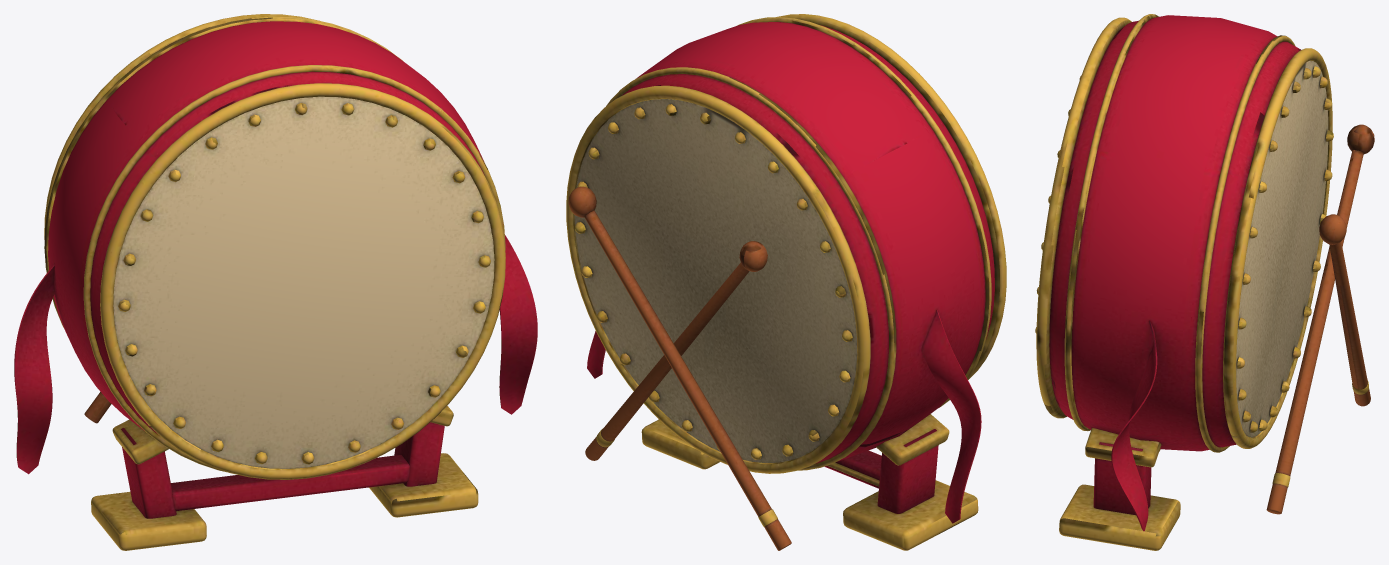
3 views of the same model, side by side, from view 1: azimuth 30°, elevation 25°; view 2: azimuth 150°, elevation 25°; view 3: azimuth 270°, elevation 25° (orthographic). The views are drawn at different scales.
Parts seen in each view (by area): view 1: Ivory_hide, Crimson_lacquer_and_silk, Warm_polished_gold; view 2: Ivory_hide, Crimson_lacquer_and_silk, Warm_polished_gold, Honey_wood; view 3: Crimson_lacquer_and_silk, Warm_polished_gold, Ivory_hide, Honey_wood.
Part boxes in pixels (bbox=[...]): Ivory_hide: bbox=[113, 96, 494, 468]; Crimson_lacquer_and_silk: bbox=[14, 21, 537, 518]; Warm_polished_gold: bbox=[16, 14, 505, 550]; Ivory_hide: bbox=[574, 99, 857, 462]; Crimson_lacquer_and_silk: bbox=[587, 22, 994, 523]; Warm_polished_gold: bbox=[566, 14, 1006, 550]; Honey_wood: bbox=[568, 186, 791, 550]; Crimson_lacquer_and_silk: bbox=[1049, 15, 1300, 531]; Warm_polished_gold: bbox=[1035, 14, 1368, 550]; Ivory_hide: bbox=[1236, 60, 1328, 437]; Honey_wood: bbox=[1266, 124, 1374, 514].
Size of the model in its own units: 0.7669 by 0.7344 by 0.5113.
Materials: 4 (4 with a texture image).
